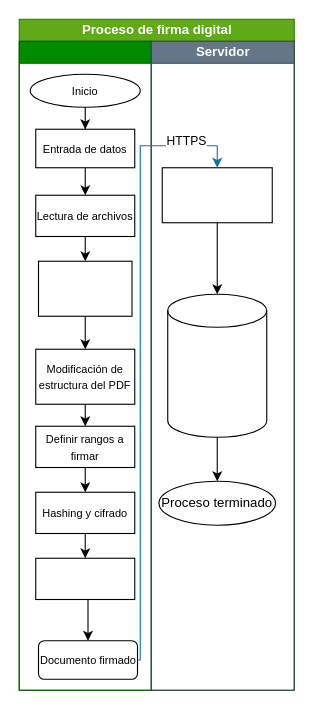
The diagram is 314 pixels wide and 710 high, and some of its shapes have lost their labels. The box of each missing label's shape, as (x1, y1, x2, y2) in pixels:
Almacenamiento de mensaje y archivo: (167, 293, 267, 437)
Cliente: (18, 40, 151, 690)
Descifrado de p12 y extracción de clave: (37, 260, 132, 316)
Inyección de la firma: (35, 557, 135, 600)
Recepción y validación del archivo: (161, 167, 272, 223)
